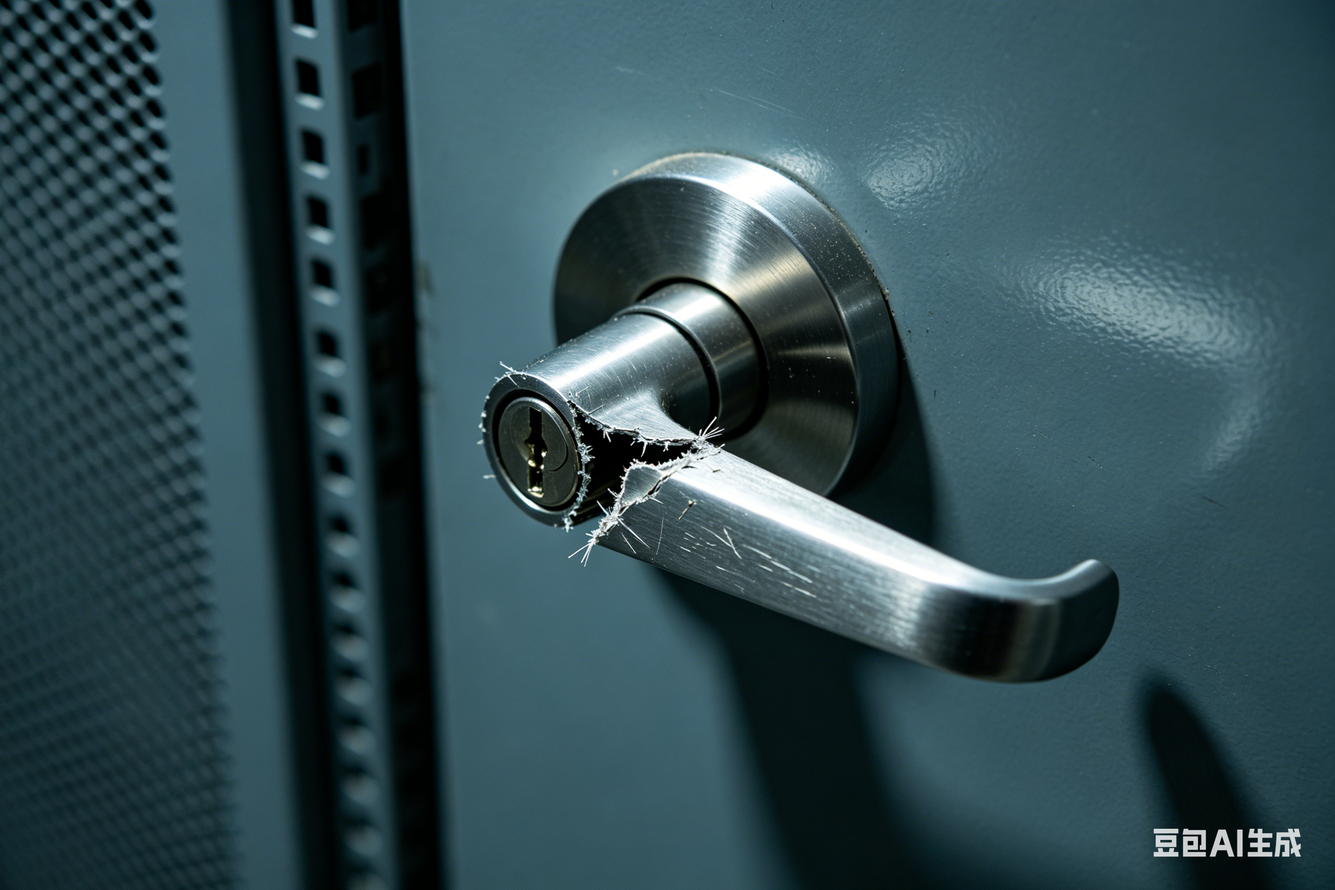BadLock: (480, 371, 714, 556)
